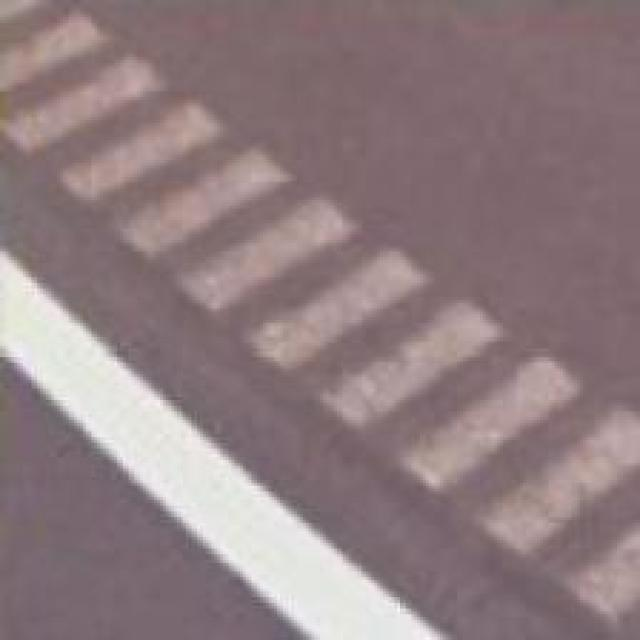zebra: (0, 0, 639, 636)
